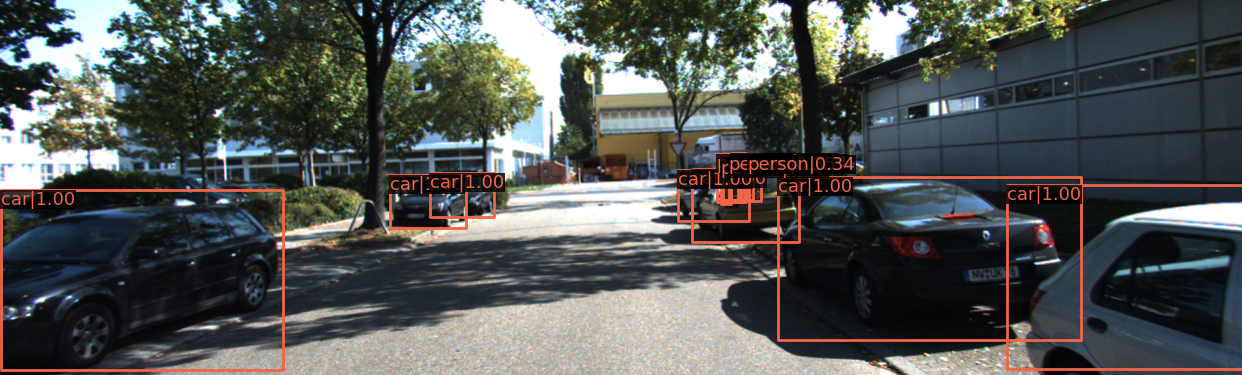car: (776, 174, 1078, 339), (1, 203, 283, 375), (1012, 168, 1242, 375), (695, 171, 801, 243), (390, 176, 472, 230), (679, 170, 754, 224), (439, 177, 493, 217)
person: (726, 154, 742, 201), (745, 155, 757, 202)
